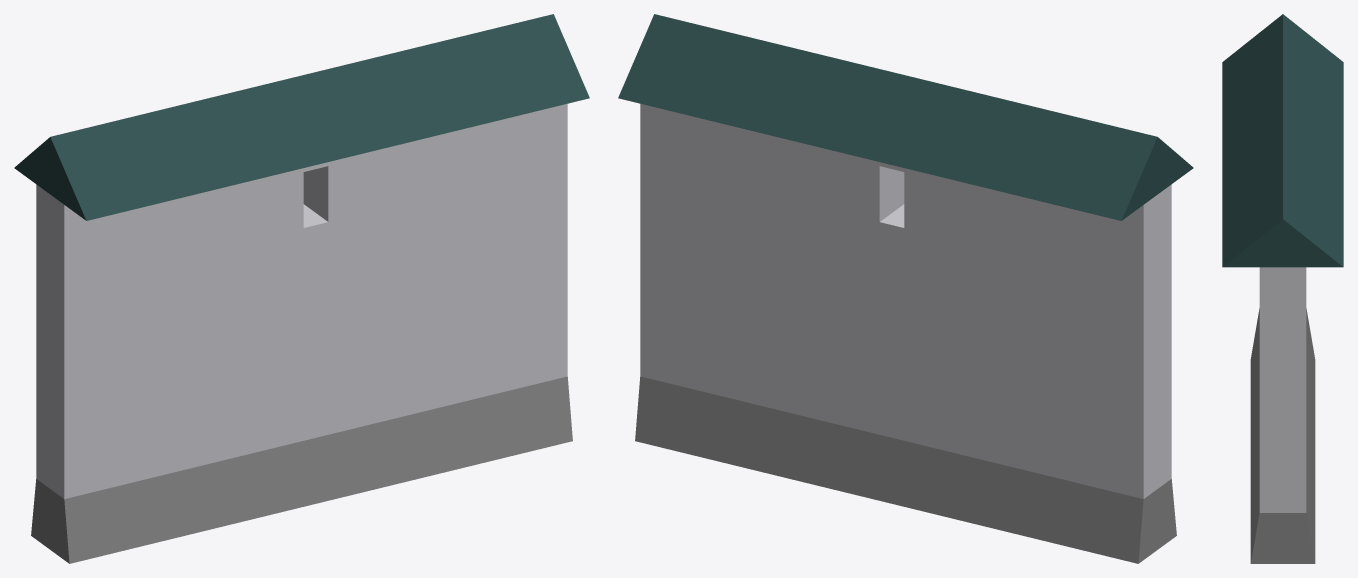
The model's file is Asian_Prop_Building_Fence_Wall_Simple_Embrasure_01.FBX.
The picture shows the model from 3 angles, left to right: view 1: azimuth 30°, elevation 25°; view 2: azimuth 150°, elevation 25°; view 3: azimuth 270°, elevation 25°; orthographic projection. The views are drawn at different scales.
Visible parts, largest first — view 1: Asian_Prop_Building_Fence_Wall_Simple_Embrasure_01; view 2: Asian_Prop_Building_Fence_Wall_Simple_Embrasure_01; view 3: Asian_Prop_Building_Fence_Wall_Simple_Embrasure_01.
Part boxes in pixels (x1,y1,x2,y2): Asian_Prop_Building_Fence_Wall_Simple_Embrasure_01: (14,14,589,563); Asian_Prop_Building_Fence_Wall_Simple_Embrasure_01: (618,14,1193,563); Asian_Prop_Building_Fence_Wall_Simple_Embrasure_01: (1222,14,1343,563).
Size of the model in its own units: 5167 by 4051 by 1290.
